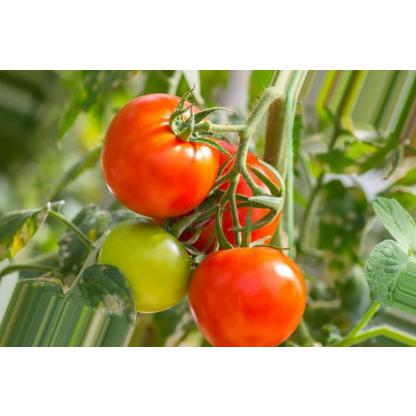tomato: (98, 88, 219, 216), (182, 236, 310, 344), (168, 140, 286, 254), (95, 206, 200, 318)
